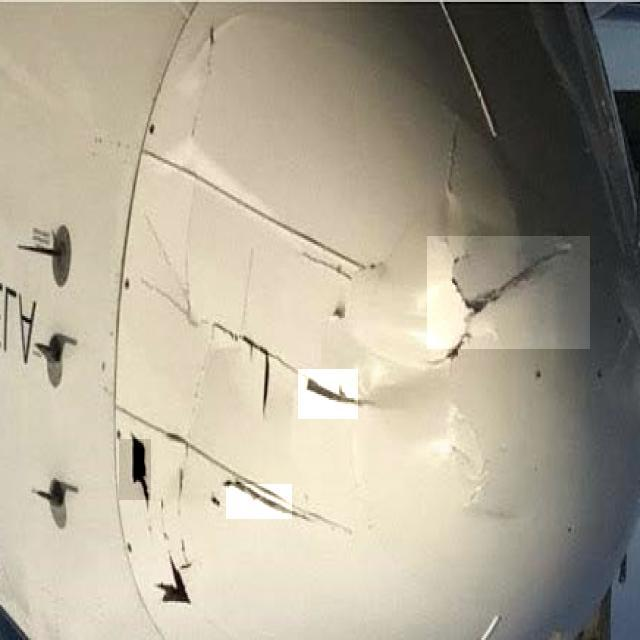crack: (428, 237, 591, 350), (299, 370, 359, 420), (227, 485, 293, 520), (164, 567, 205, 619), (120, 440, 152, 501)
